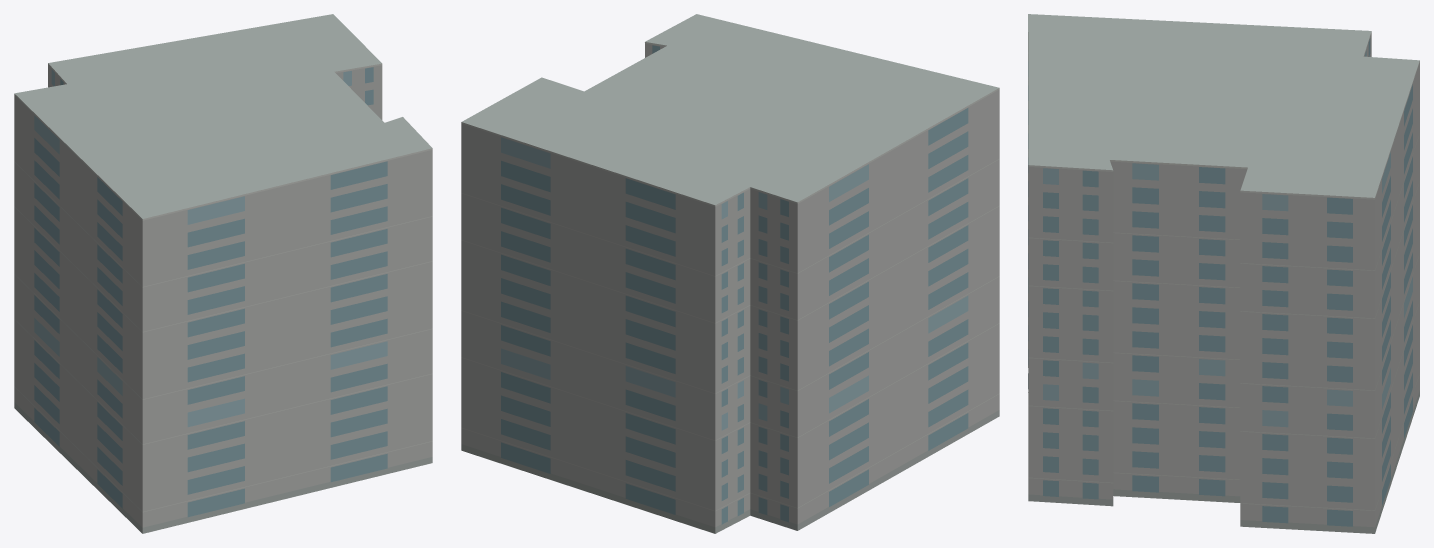
Rendered from survey-upis-32728578.glb.
The picture shows the model from 3 angles, left to right: view 1: azimuth 30°, elevation 25°; view 2: azimuth 150°, elevation 25°; view 3: azimuth 270°, elevation 25°; orthographic projection. The views are drawn at different scales.
Parts seen in each view (by area): view 1: survey-upis-32728578.tmp; view 2: survey-upis-32728578.tmp; view 3: survey-upis-32728578.tmp.
Part boxes in pixels (x1,y1,x2,y2): survey-upis-32728578.tmp: (14,14,432,533); survey-upis-32728578.tmp: (461,14,999,533); survey-upis-32728578.tmp: (1028,14,1419,533).
Size of the model in its own units: 56.9 by 48.45 by 51.22.
